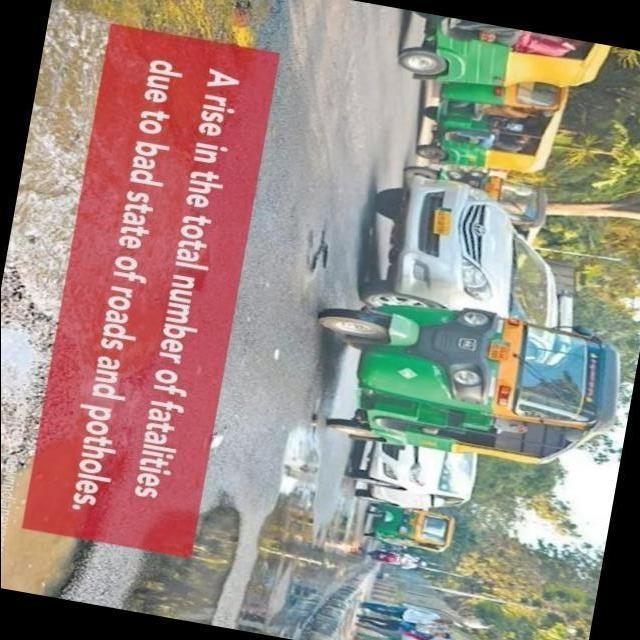pothole: (1, 245, 79, 593)
